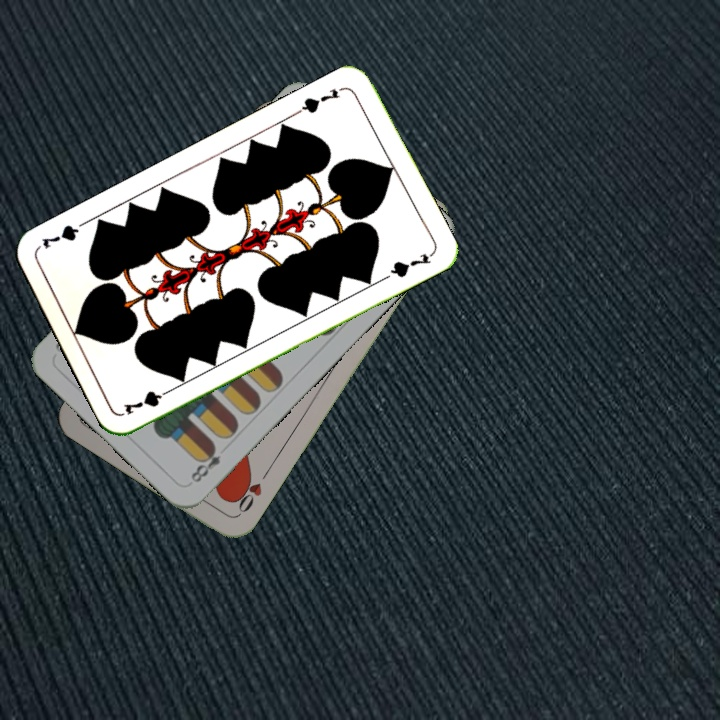E8: (185, 440, 224, 487)
G7: (120, 383, 177, 418), (292, 83, 347, 117)
HO: (229, 465, 273, 517)
